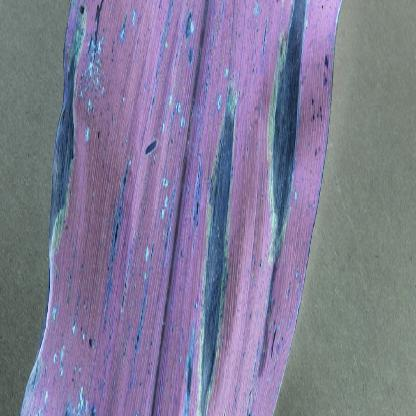corn leaf blight: (31, 1, 325, 415)
